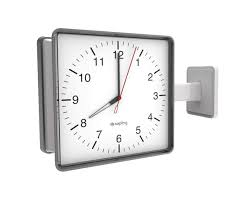alarm_clock: (29, 23, 217, 174)
